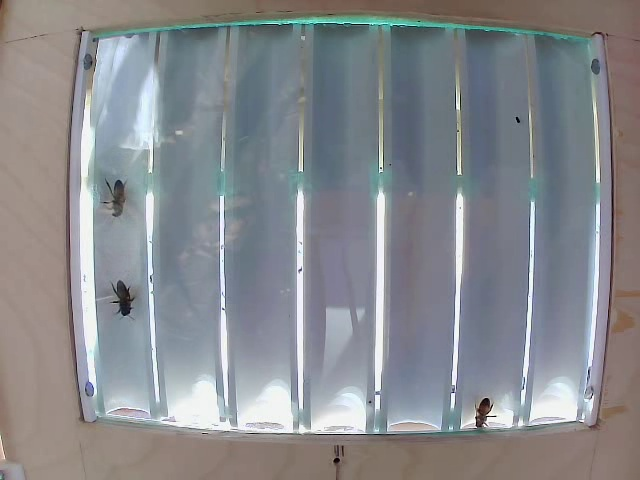bee: (96, 162, 131, 215), (468, 391, 512, 432), (108, 281, 146, 315)
